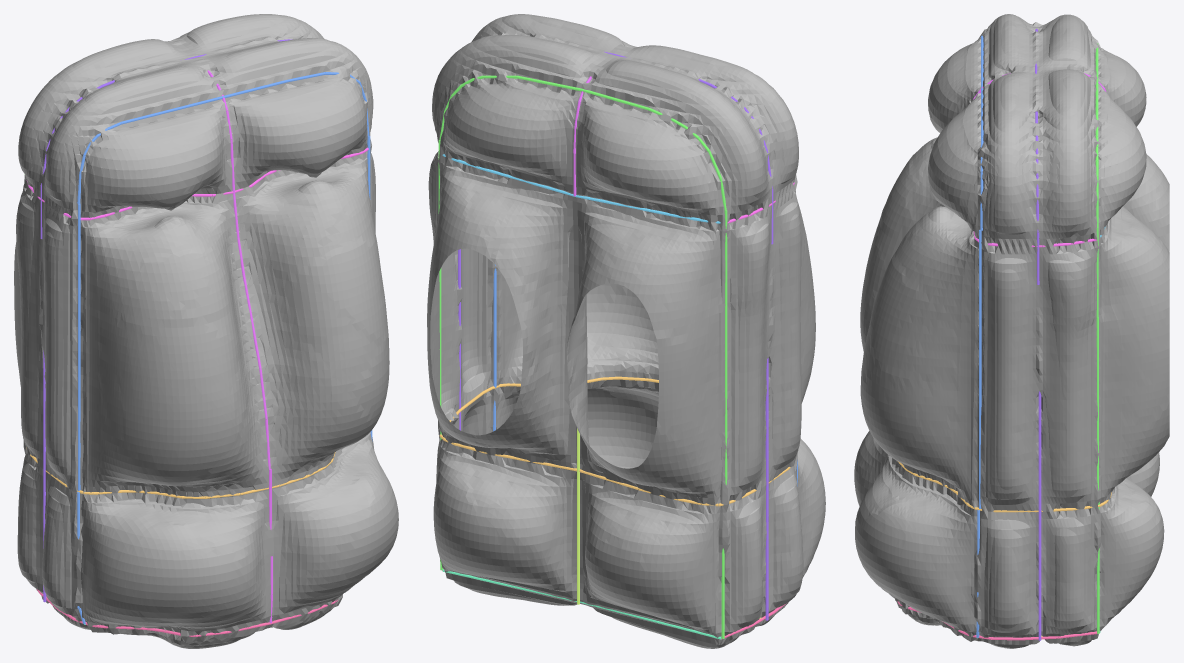
3 renders of one model, left to right at view 1: azimuth 30°, elevation 25°; view 2: azimuth 150°, elevation 25°; view 3: azimuth 270°, elevation 25°, orthographic. The views are drawn at different scales.
Bounding box in the file's own units: 0.5377 × 0.8558 × 0.4549.
